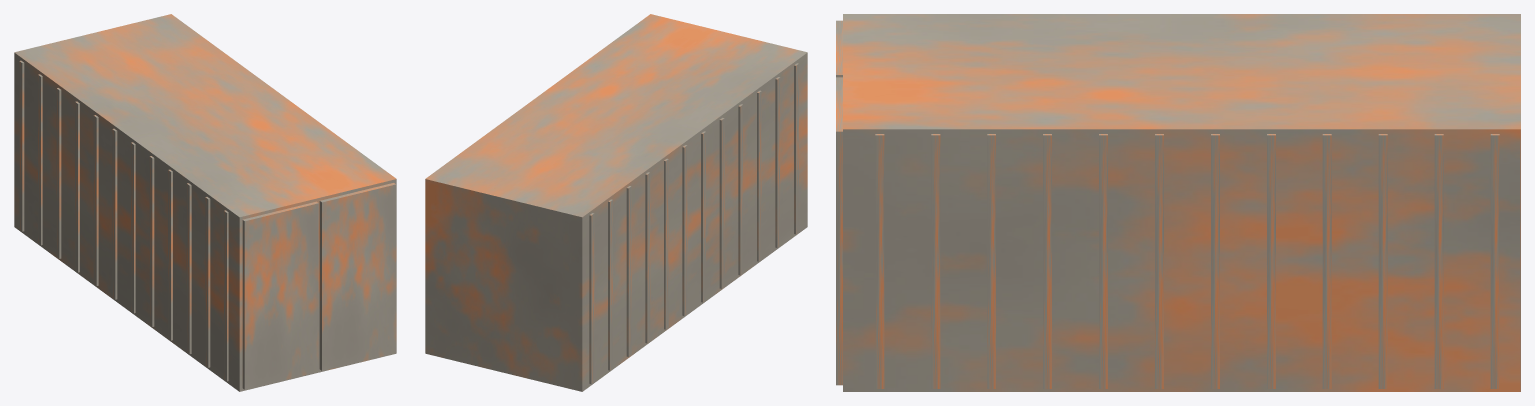
The model's file is container.fbx.
3 renders of one model, left to right at view 1: azimuth 30°, elevation 25°; view 2: azimuth 150°, elevation 25°; view 3: azimuth 270°, elevation 25°, orthographic. The views are drawn at different scales.
Parts seen in each view (by area): view 1: body, door_l, door_r, rib0, rib5, rib2, rib4, rib7, rib9, rib10, rib3, rib11 (+3 smaller); view 2: body, rib0, rib3, rib10, rib2, rib5, rib7, rib1, rib6, rib9, rib11, rib4 (+1 smaller); view 3: body, rib0, rib1, rib10, rib11, rib2, rib3, rib4, rib5, rib6, rib7, rib8 (+2 smaller).
Boxes of the visible parts, x1=… form: body: x1=14, y1=14, x2=396, y2=391; door_l: x1=319, y1=183, x2=395, y2=370; door_r: x1=242, y1=201, x2=318, y2=389; rib0: x1=19, y1=60, x2=24, y2=231; rib5: x1=112, y1=128, x2=117, y2=299; rib2: x1=56, y1=88, x2=61, y2=258; rib4: x1=93, y1=115, x2=98, y2=285; rib7: x1=149, y1=156, x2=154, y2=326; rib9: x1=186, y1=183, x2=191, y2=354; rib10: x1=205, y1=197, x2=210, y2=367; rib3: x1=75, y1=101, x2=79, y2=272; rib11: x1=224, y1=210, x2=228, y2=381; body: x1=425, y1=14, x2=807, y2=391; rib0: x1=589, y1=213, x2=594, y2=384; rib3: x1=645, y1=172, x2=650, y2=343; rib10: x1=775, y1=77, x2=780, y2=247; rib2: x1=626, y1=186, x2=631, y2=356; rib5: x1=682, y1=145, x2=687, y2=315; rib7: x1=719, y1=118, x2=724, y2=288; rib1: x1=608, y1=199, x2=612, y2=370; rib6: x1=701, y1=131, x2=705, y2=302; rib9: x1=757, y1=90, x2=761, y2=261; rib11: x1=794, y1=63, x2=798, y2=234; rib4: x1=664, y1=158, x2=668, y2=329; body: x1=843, y1=14, x2=1520, y2=391; rib0: x1=1490, y1=134, x2=1499, y2=388; rib1: x1=1434, y1=134, x2=1443, y2=388; rib10: x1=931, y1=134, x2=940, y2=388; rib11: x1=875, y1=134, x2=884, y2=388; rib2: x1=1378, y1=134, x2=1387, y2=388; rib3: x1=1322, y1=134, x2=1331, y2=388; rib4: x1=1267, y1=134, x2=1275, y2=388; rib5: x1=1211, y1=134, x2=1219, y2=388; rib6: x1=1155, y1=134, x2=1163, y2=388; rib7: x1=1099, y1=134, x2=1107, y2=388; rib8: x1=1043, y1=134, x2=1051, y2=388.
Bounding box in the file's own units: 250 × 259 × 612.
